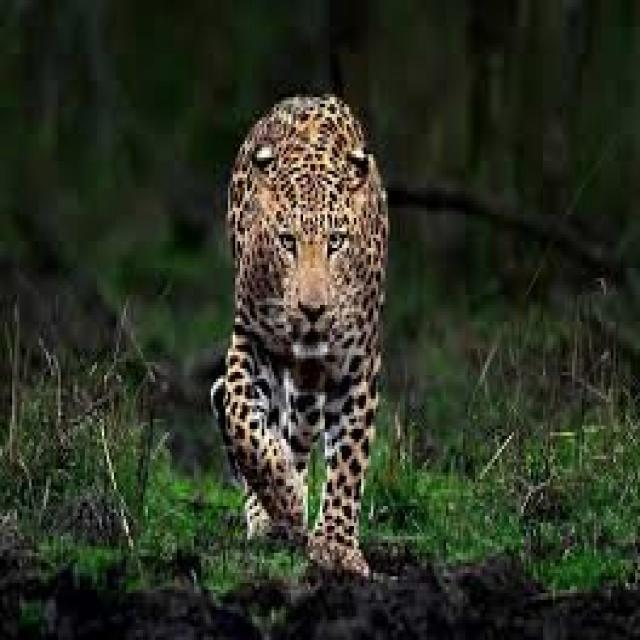leopard: (213, 94, 388, 573)
